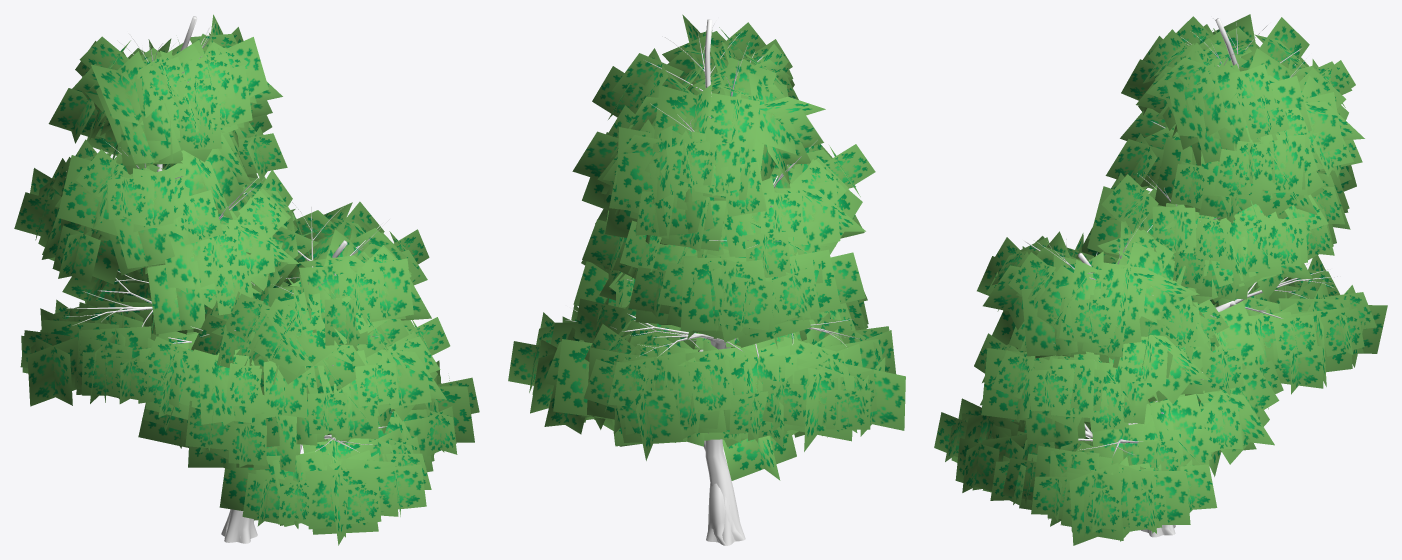
File: Tree (1).fbx
3 views of the same model, side by side, from view 1: azimuth 30°, elevation 25°; view 2: azimuth 150°, elevation 25°; view 3: azimuth 270°, elevation 25° (orthographic). The views are drawn at different scales.
Visible parts, largest first — view 1: leaves_01_1, Tree__1_; view 2: leaves_01_1, Tree__1_; view 3: leaves_01_1, Tree__1_.
Boxes of the visible parts, x1,y1,x2,y2 form: leaves_01_1: (14, 14, 479, 545); Tree__1_: (65, 16, 392, 543); leaves_01_1: (508, 14, 905, 480); Tree__1_: (560, 19, 862, 545); leaves_01_1: (934, 14, 1387, 545); Tree__1_: (980, 18, 1340, 537).
Size of the model in its own units: 3113 by 3768 by 3078.
2 materials, 1 textured.
